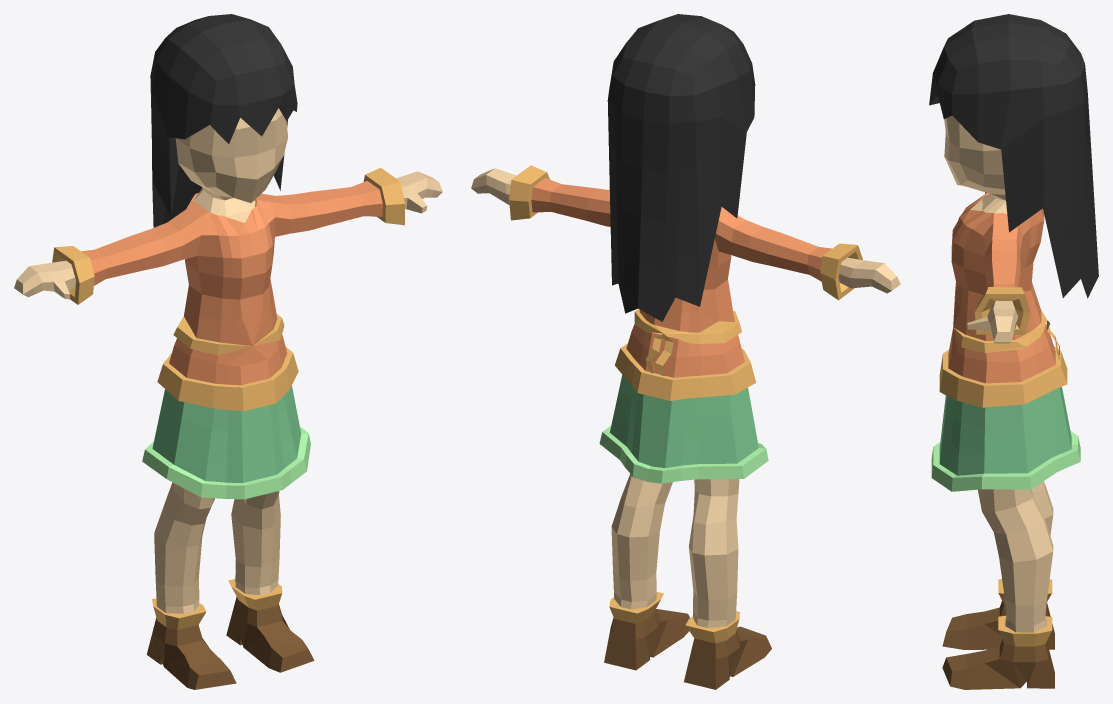
Rendered from Girl.fbx.
3 views of the same model, side by side, from view 1: azimuth 30°, elevation 25°; view 2: azimuth 150°, elevation 25°; view 3: azimuth 270°, elevation 25° (orthographic).
Visible parts, largest first — view 1: Cube.001; view 2: Cube.001; view 3: Cube.001.
Boxes of the visible parts, x1,y1,x2,y2 form: Cube.001: (14, 14, 442, 689); Cube.001: (471, 14, 900, 689); Cube.001: (929, 14, 1098, 689).
Size of the model in its own units: 23466 by 33901 by 8172.
